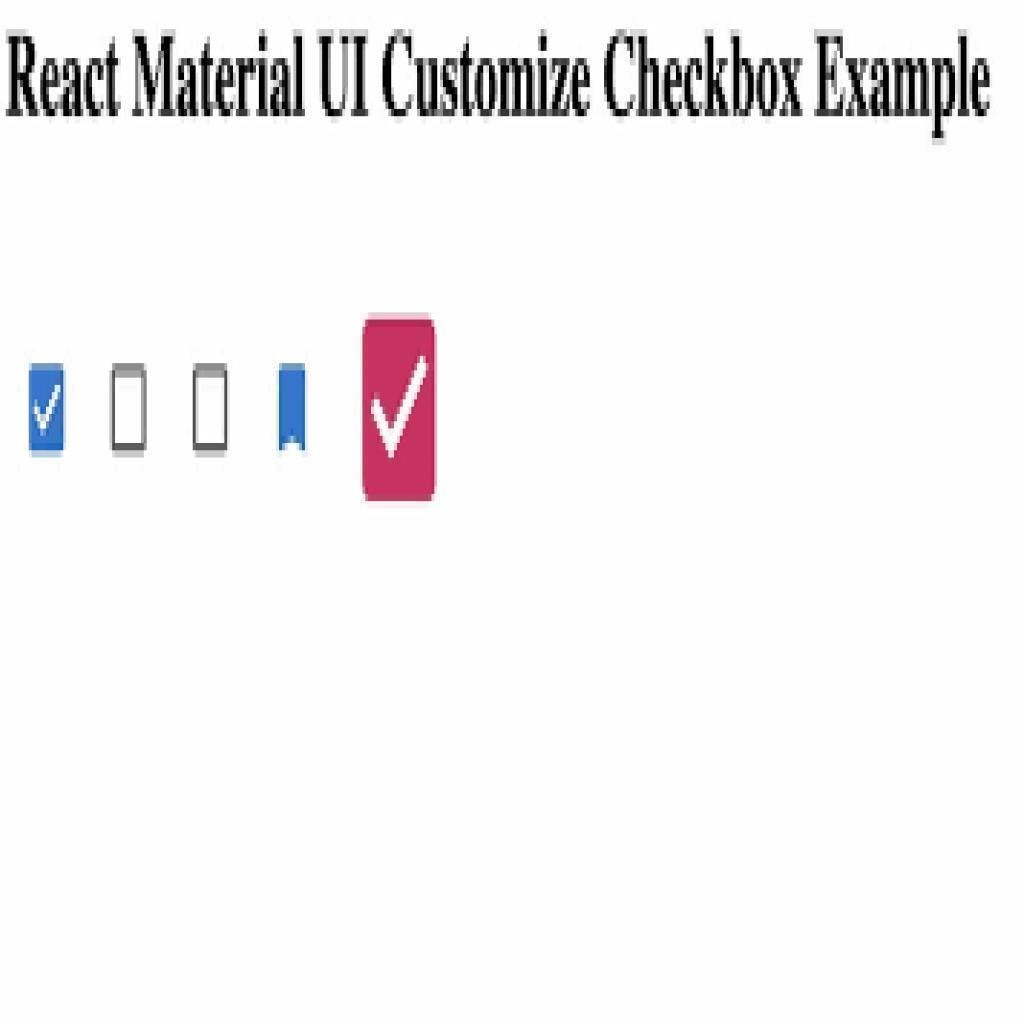checkbox: (362, 318, 438, 498), (28, 365, 64, 452), (193, 365, 227, 451), (112, 366, 145, 451)
